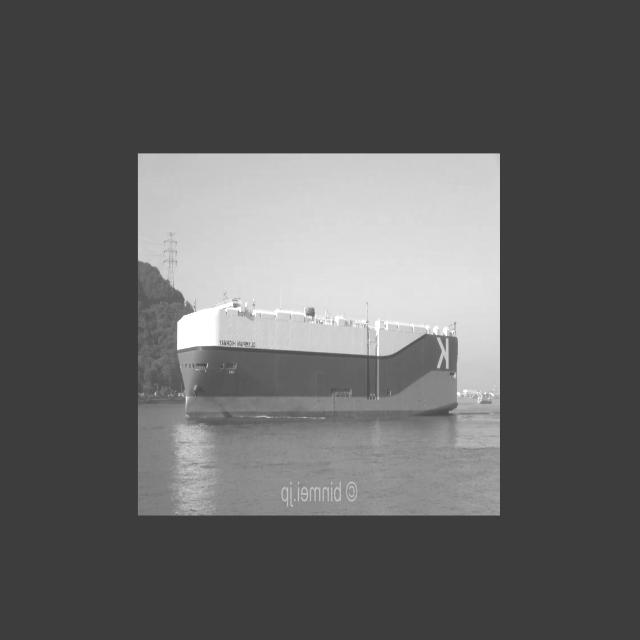ship: (177, 300, 460, 419)
